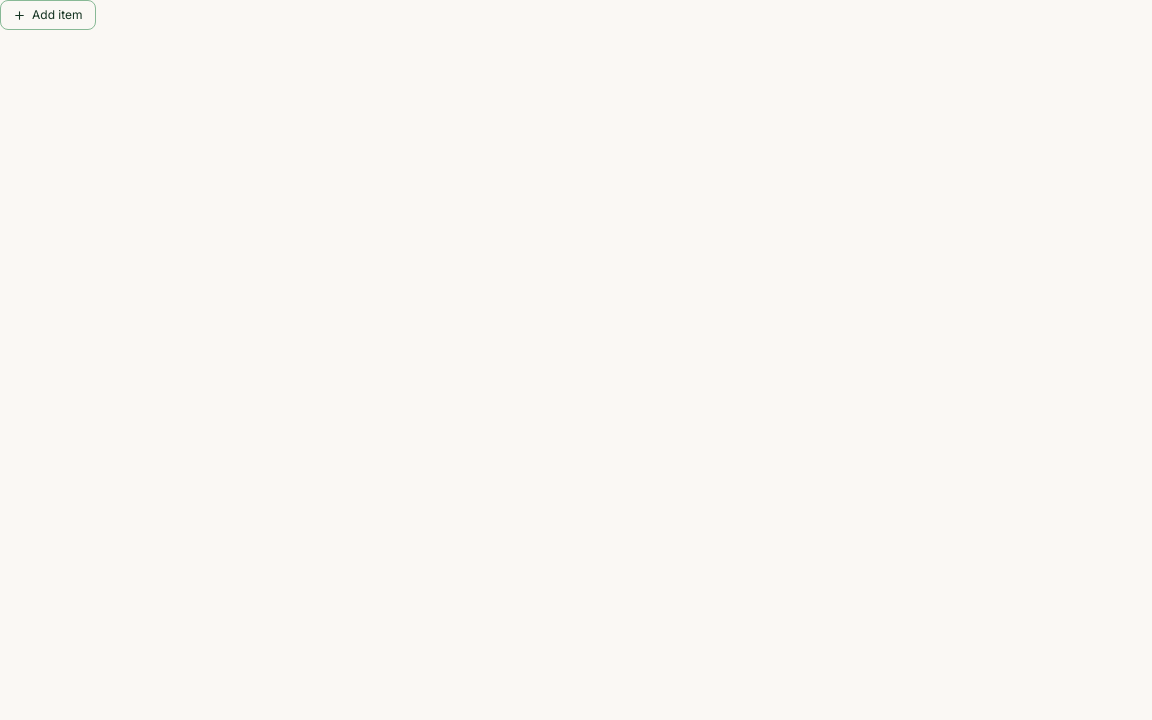
Test: S8 — items already added can be removed › lists what is on the document and asks before removing it
The width and height of the screenshot is (1152, 720).
Click the button "Add item". click: (48, 15)
box: [0, 0, 96, 30]
(page scrolled)
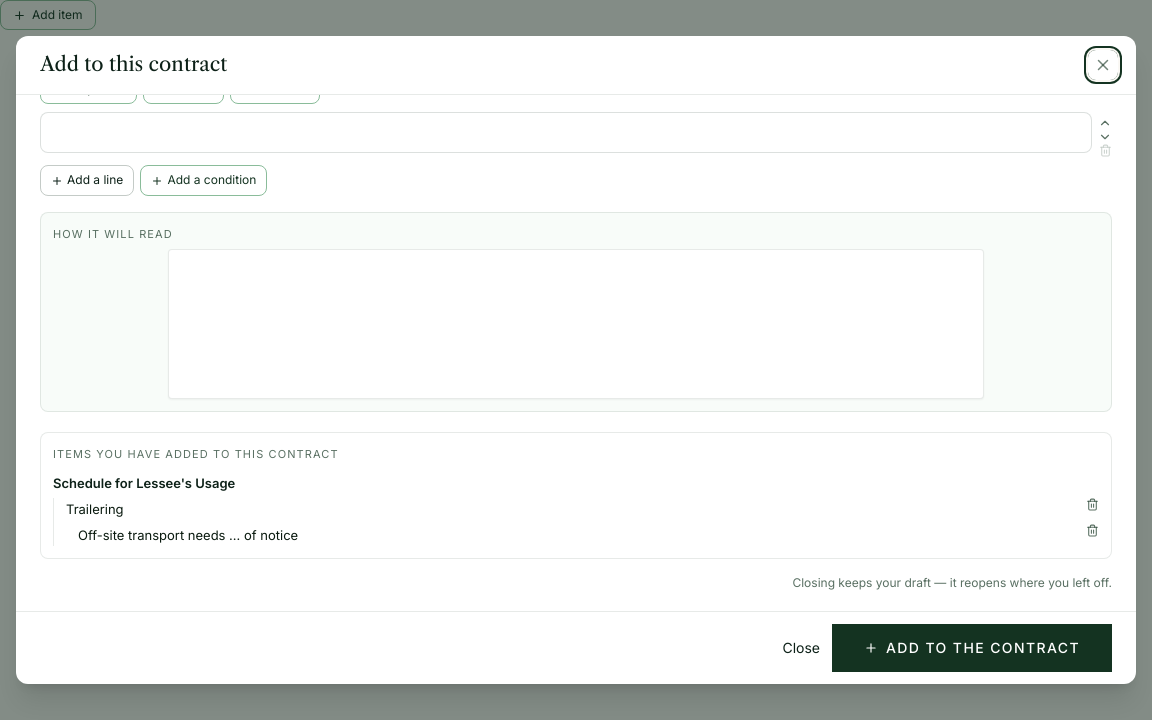
Expected: the text "Items you have added to this contract" is shown, [53, 448, 339, 462]
Expected: the text "Trailering" is shown, [66, 501, 124, 517]
Expected: the text "Off-site transport needs … of notice" is shown, [78, 527, 298, 543]
Click the button named "Remove Trailering". click: (1092, 505)
box: [1086, 498, 1099, 511]
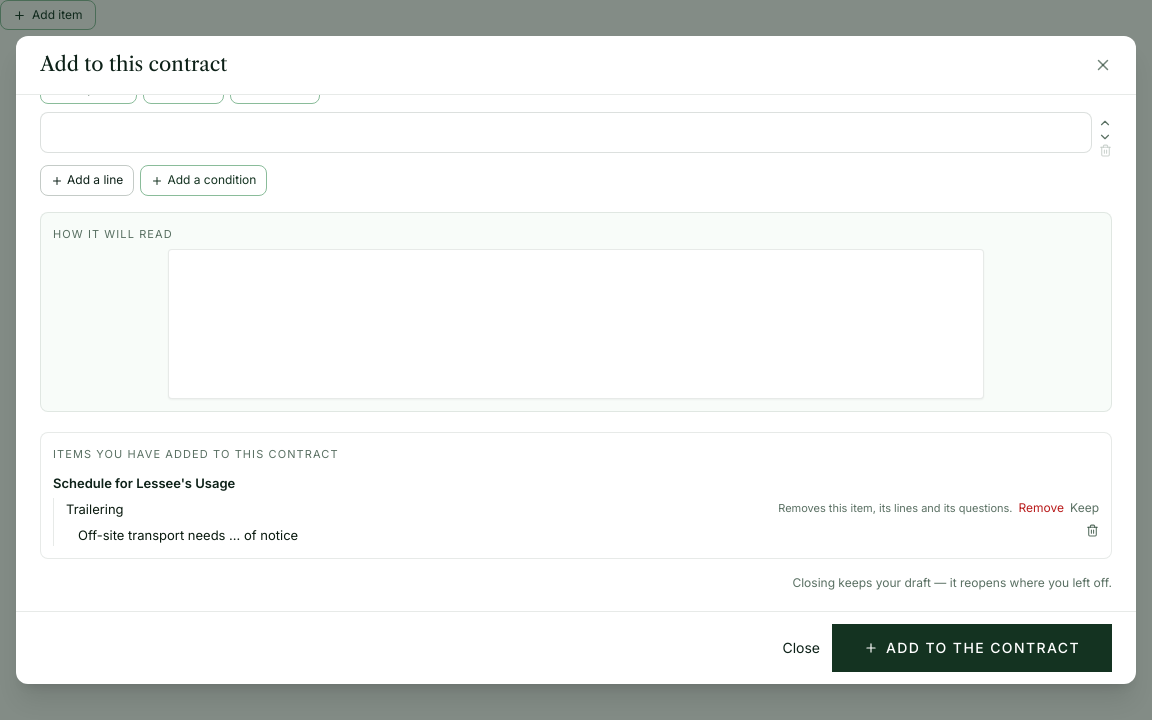
Expected: the text "Removes this item, its lines and its questions." is shown, [778, 499, 1012, 518]
Click the button "Keep". click: (1085, 508)
box: [1070, 498, 1099, 519]
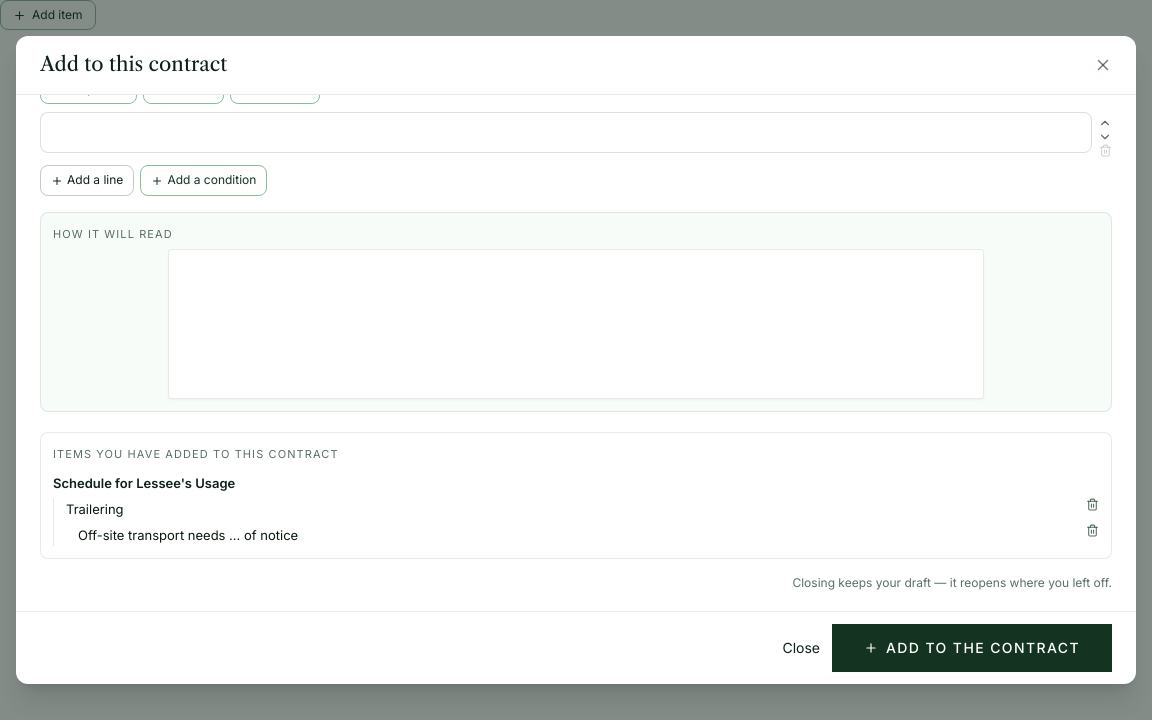
Expected: the text "Removes this item, its lines and its questions." is gone
